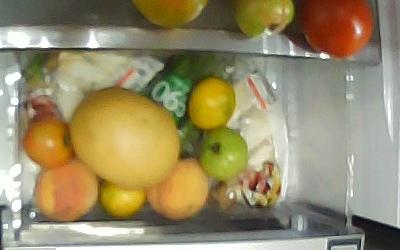peach: (145, 158, 209, 222), (33, 159, 98, 221)
pear: (69, 87, 181, 187)
tangerine: (188, 76, 236, 129), (99, 181, 147, 219)
tomato: (22, 118, 73, 169), (198, 129, 248, 181)
